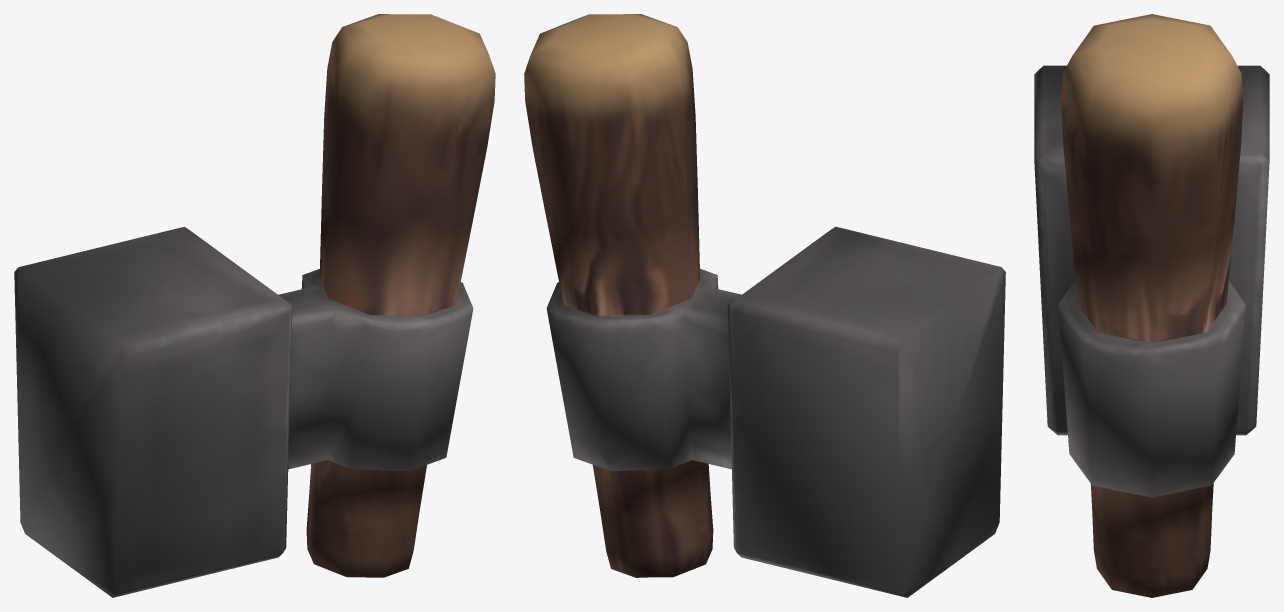
File: torch.fbx
3 views of the same model, side by side, from view 1: azimuth 30°, elevation 25°; view 2: azimuth 150°, elevation 25°; view 3: azimuth 270°, elevation 25° (orthographic). The views are drawn at different scales.
Parts seen in each view (by area): view 1: Torch.001; view 2: Torch.001; view 3: Torch.001.
Boxes of the visible parts, left/top/right/bottom form: Torch.001: left=14, top=14, right=495, bottom=597; Torch.001: left=524, top=14, right=1005, bottom=597; Torch.001: left=1034, top=14, right=1269, bottom=597.
Bounding box in the file's own units: 8.23 × 9.95 × 3.74.
